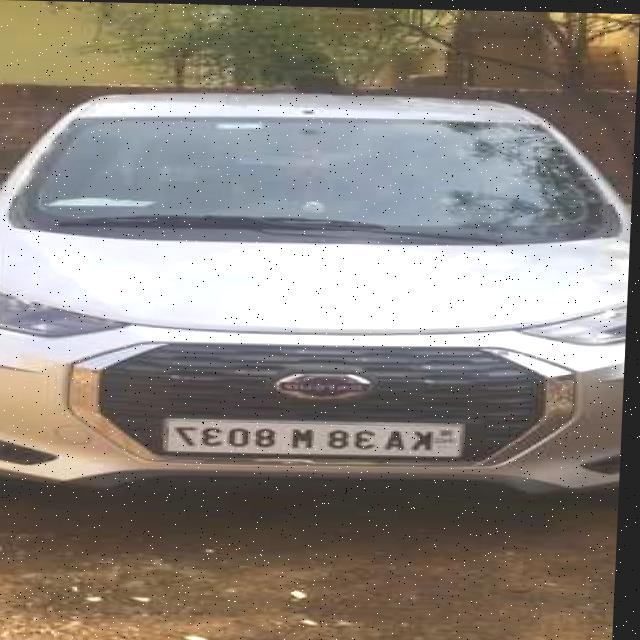plate: (160, 413, 471, 460)
